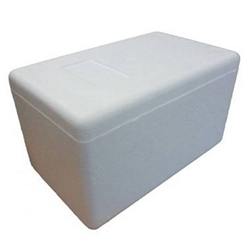Foam Box: (7, 29, 241, 231)
